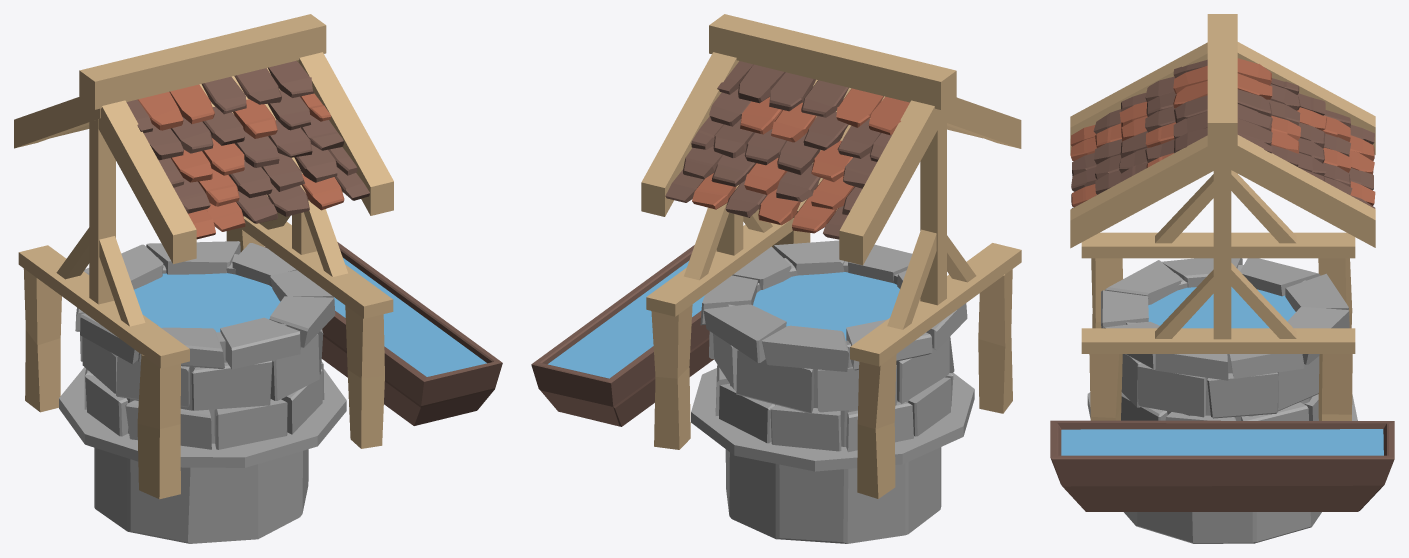
Rendered from Well.fbx.
3 views of the same model, side by side, from view 1: azimuth 30°, elevation 25°; view 2: azimuth 150°, elevation 25°; view 3: azimuth 270°, elevation 25° (orthographic). The views are drawn at different scales.
Visible parts, largest first — view 1: Well, WellWater; view 2: Well, WellWater; view 3: Well, WellWater.
Boxes of the visible parts, x1,y1,x2,y2 form: Well: (14,14,502,543); WellWater: (134,258,486,376); Well: (531,14,1021,543); WellWater: (548,261,899,378); Well: (1050,14,1394,543); WellWater: (1061,287,1383,455).
Bounding box in the file's own units: 2.17 × 2.78 × 2.
